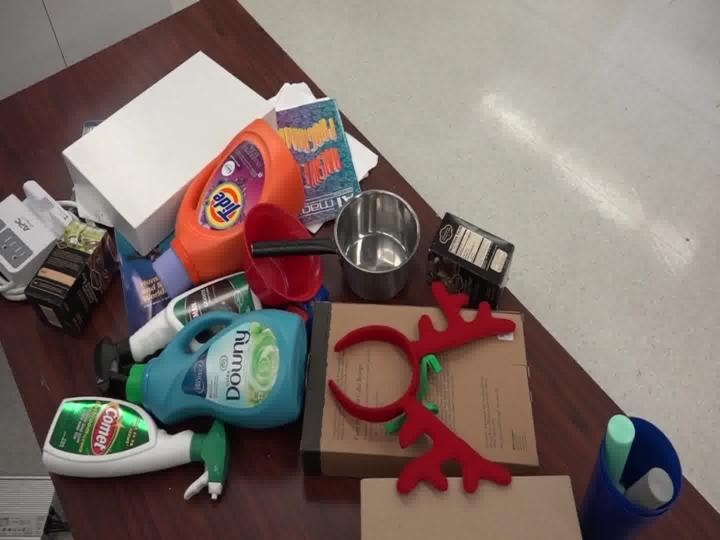tide: (140, 107, 315, 286)
